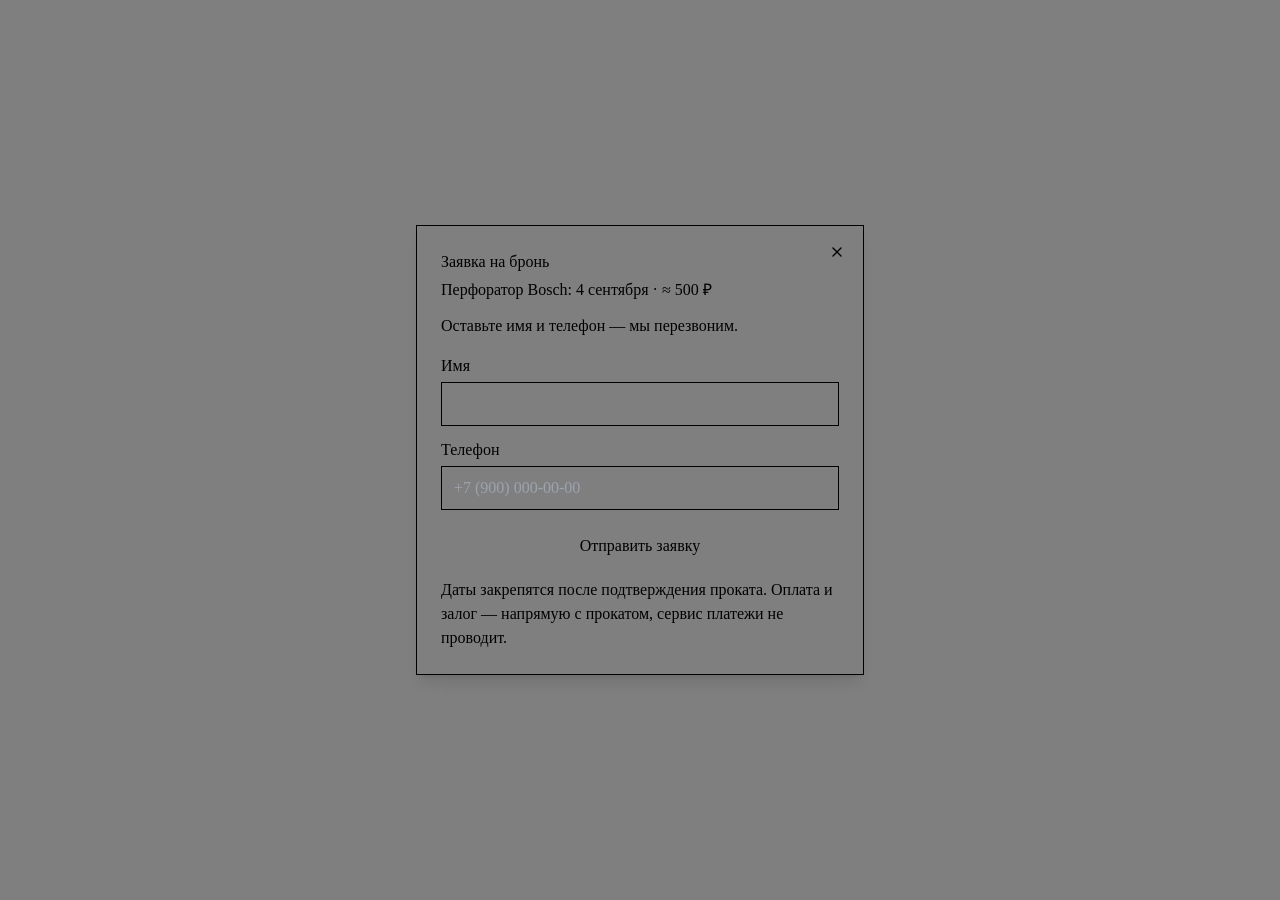
Test: запасная форма › успех — обещание связаться без кода и одна цель booking_sent без параметров
Type "Тимур" into the field labelled "Имя". click: (640,404)
box: [441,382,839,426]
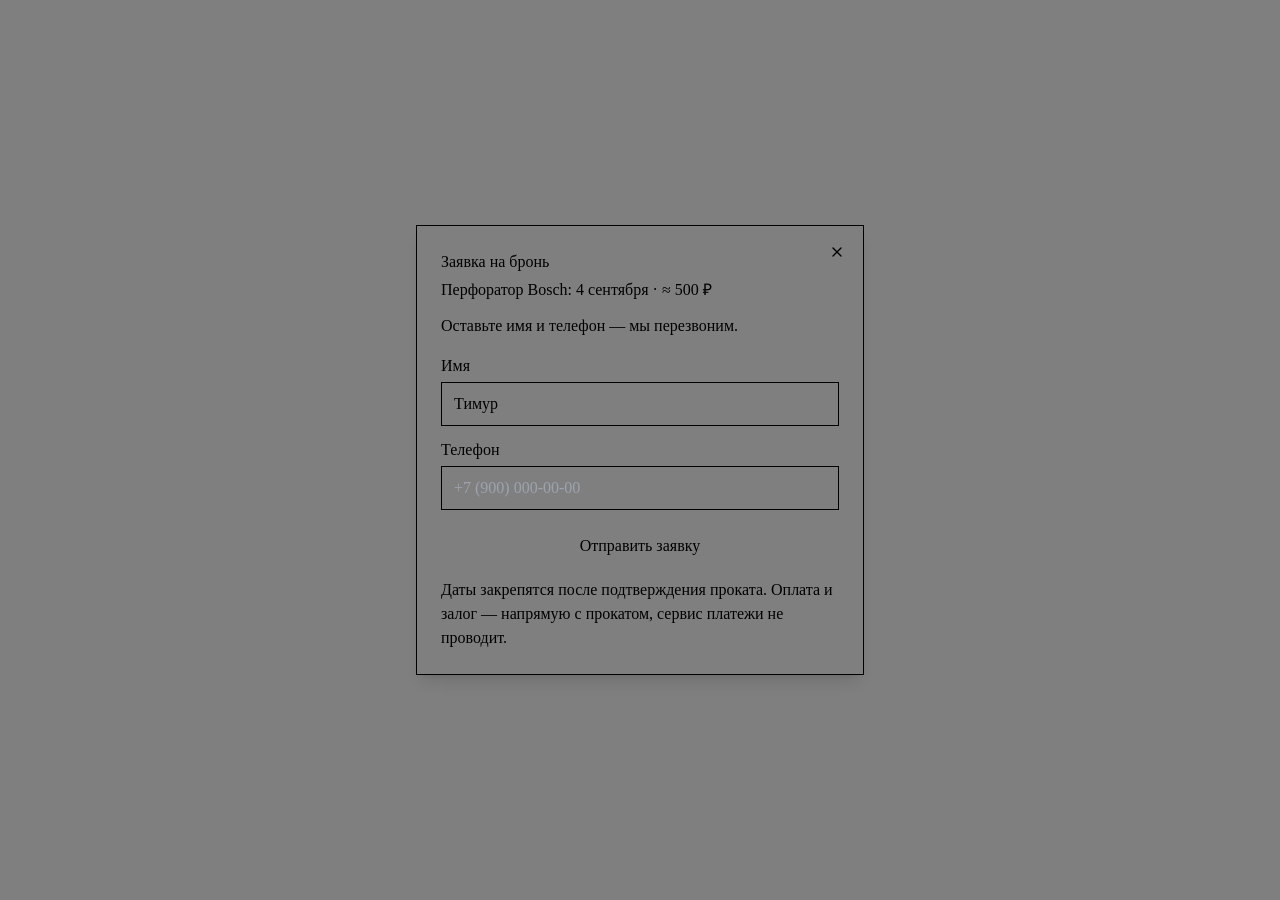
Type "+7 900 123-45-67" into the field labelled "Телефон". click: (640,488)
box: [441,466,839,510]
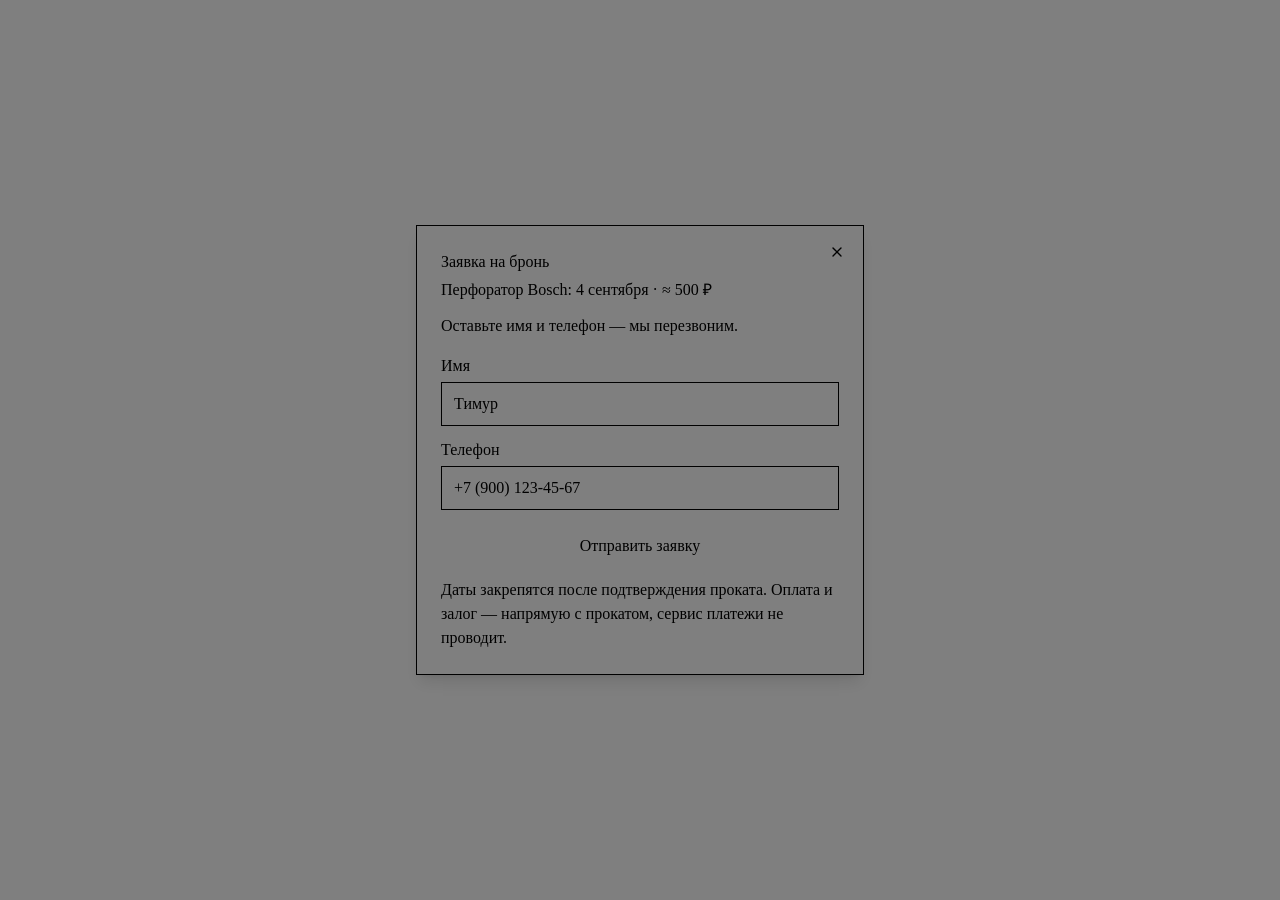
Submit the form named "booking_lead", box [441,354,839,650]
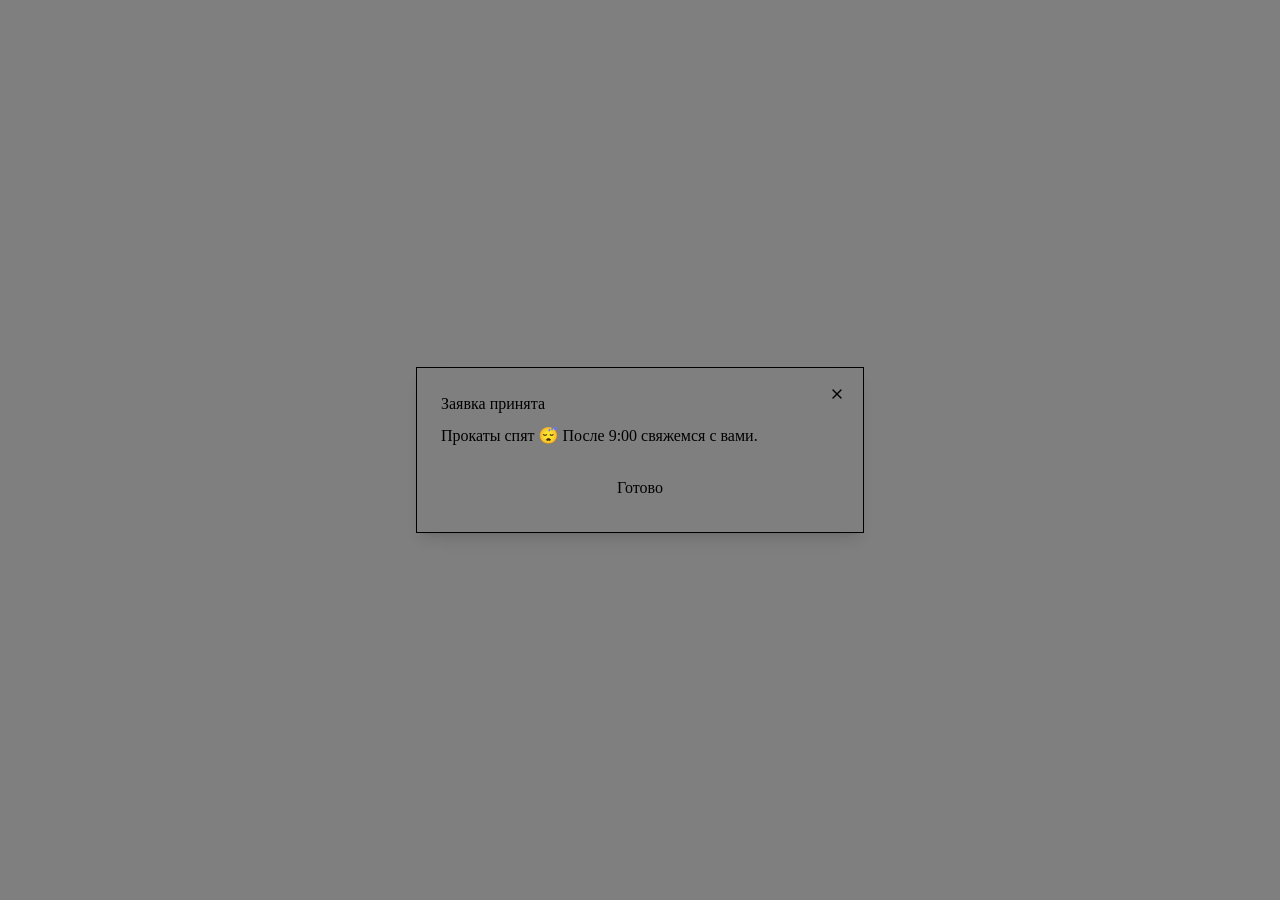
Check: the heading "Заявка принята" is shown, box [441,395,545,412]
Check: the text "Прокаты спят 😴 После 9:00 свяжемся с вами." is shown, box [441,427,758,444]
